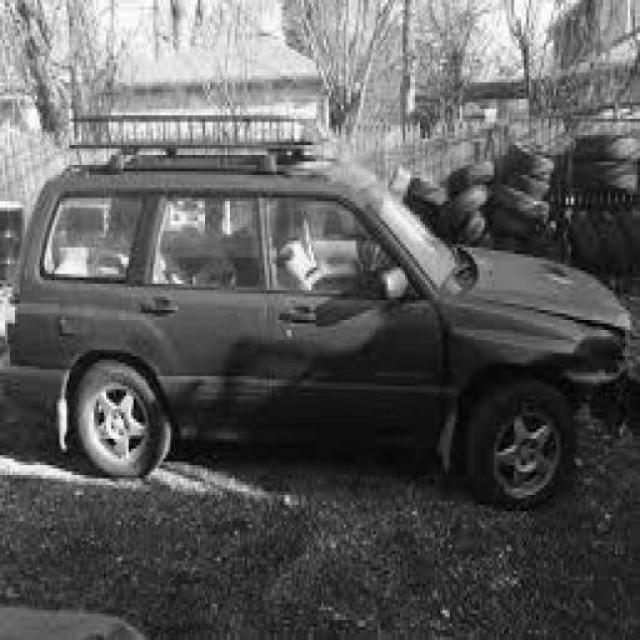dent: (540, 332, 621, 381)
misalignment: (526, 305, 625, 335)
